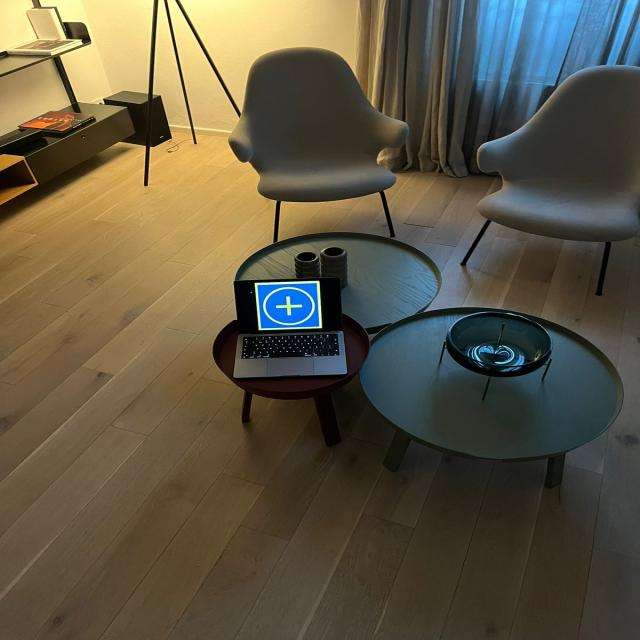Marker: (255, 281, 322, 330)
